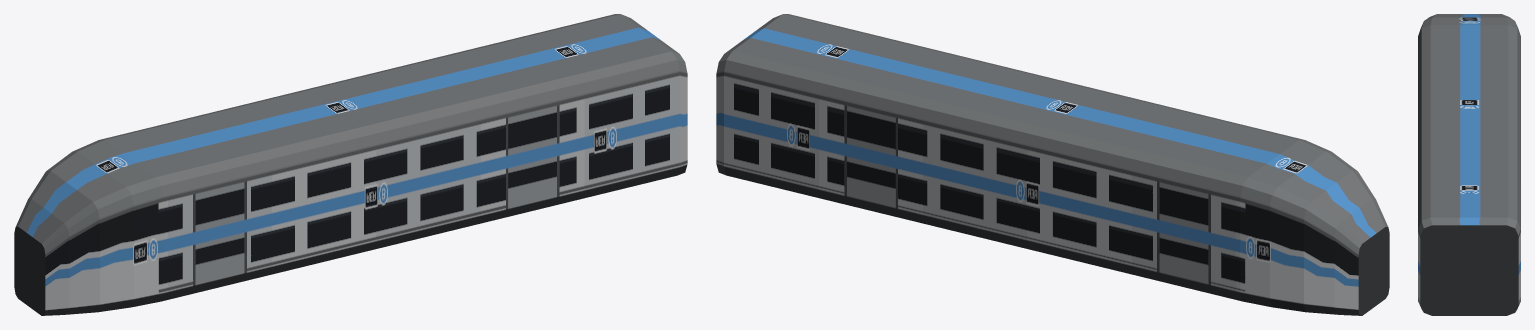
File: rer_generic_B__cab.glb
3 views of the same model, side by side, from view 1: azimuth 30°, elevation 25°; view 2: azimuth 150°, elevation 25°; view 3: azimuth 270°, elevation 25° (orthographic). The views are drawn at different scales.
Visible parts, largest first — view 1: rer_generic_B__cab; view 2: rer_generic_B__cab; view 3: rer_generic_B__cab.
Part boxes in pixels (x1,y1,x2,y2): rer_generic_B__cab: (14, 14, 687, 315); rer_generic_B__cab: (716, 14, 1389, 315); rer_generic_B__cab: (1418, 14, 1520, 315).
Size of the model in its own units: 15 by 2.85 by 2.8.
1 material, 1 textured.
